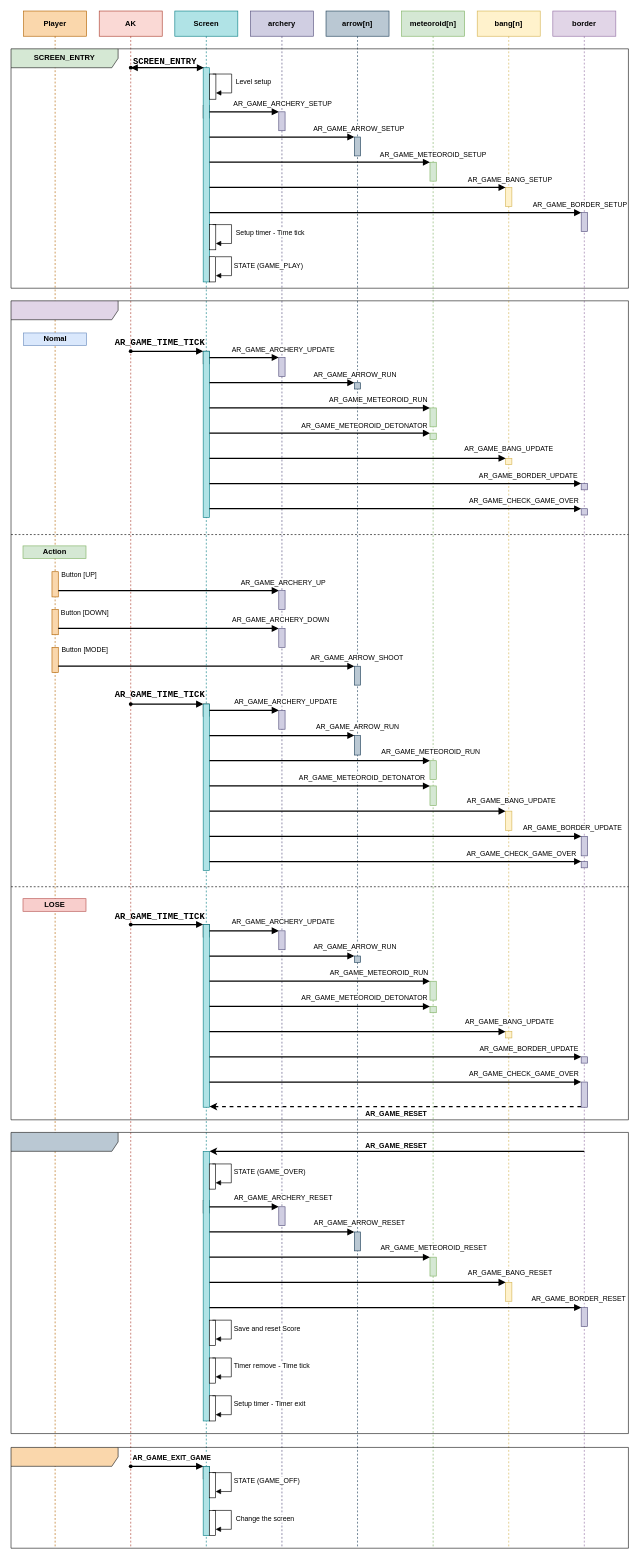
Image size: 639x1559. Some labels were removed from this diagram. Each missing label, with the box of its shape:
EXIT: (10, 1447, 628, 1548)
GAME PLAY: (10, 300, 628, 1120)
RESET GAME: (10, 1132, 628, 1434)
